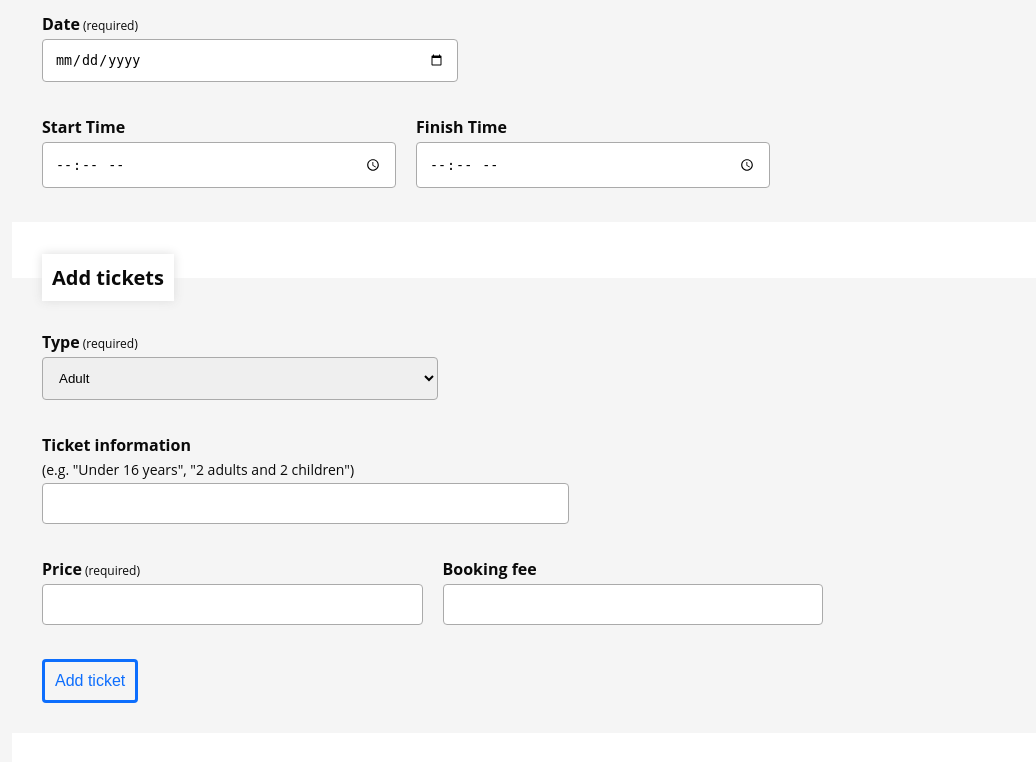
Test: AddEvent component › should list tickets as they are added
(page scrolled)
Step 1. Select "Child" in the dropdown labelled "Type (required)" → (240, 379), box x1=42 y1=357 x2=438 y2=400
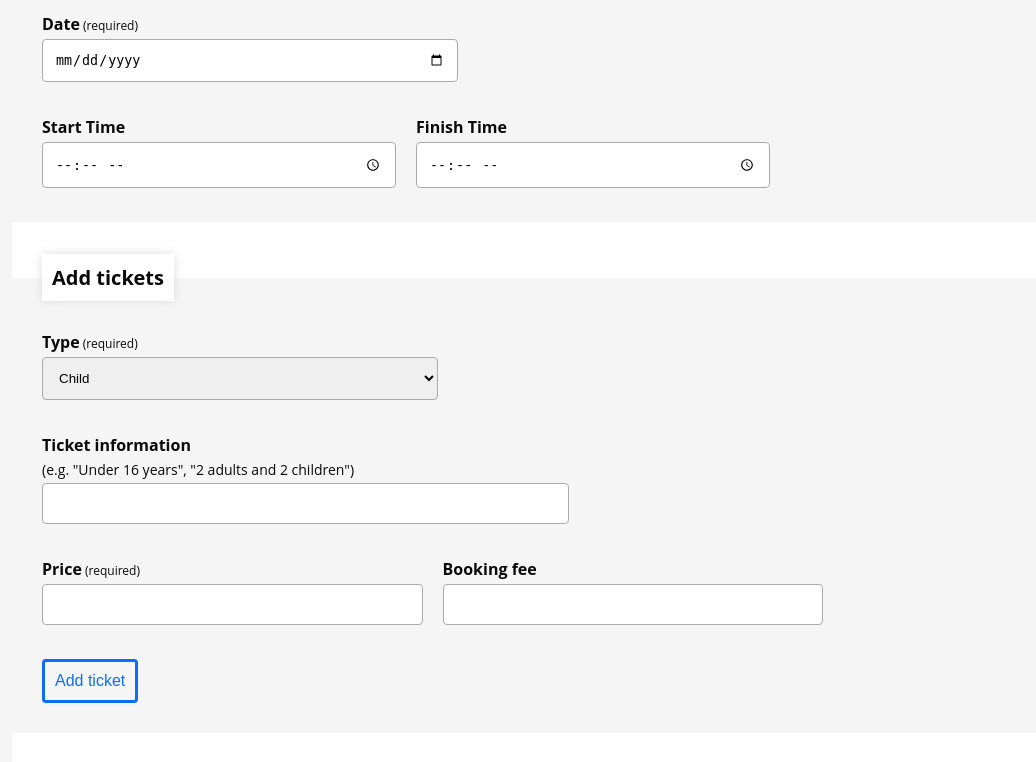
Step 2. Type "Test ticket information" into the field labelled "Ticket information" → (306, 504), box x1=42 y1=483 x2=569 y2=524
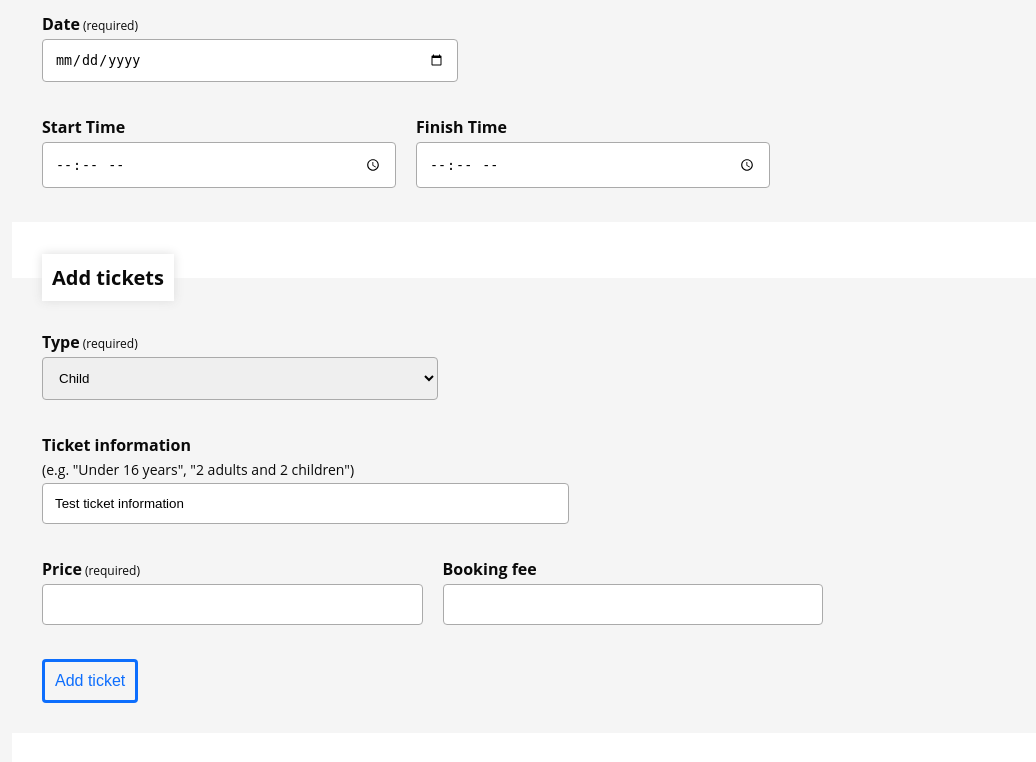
Step 3. Type "10.99" into the number field labelled "Price (required)" → (232, 605), box x1=42 y1=584 x2=422 y2=625
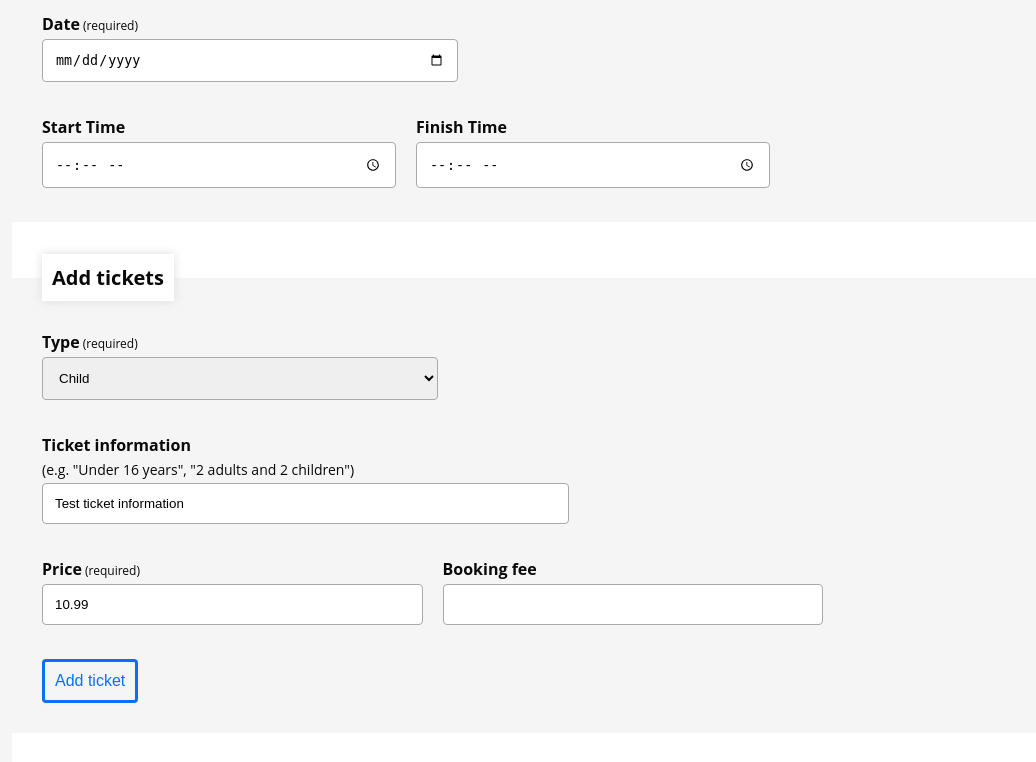
Step 4. Type "1.99" into the number field labelled "Booking fee" → (633, 605), box x1=442 y1=584 x2=823 y2=625
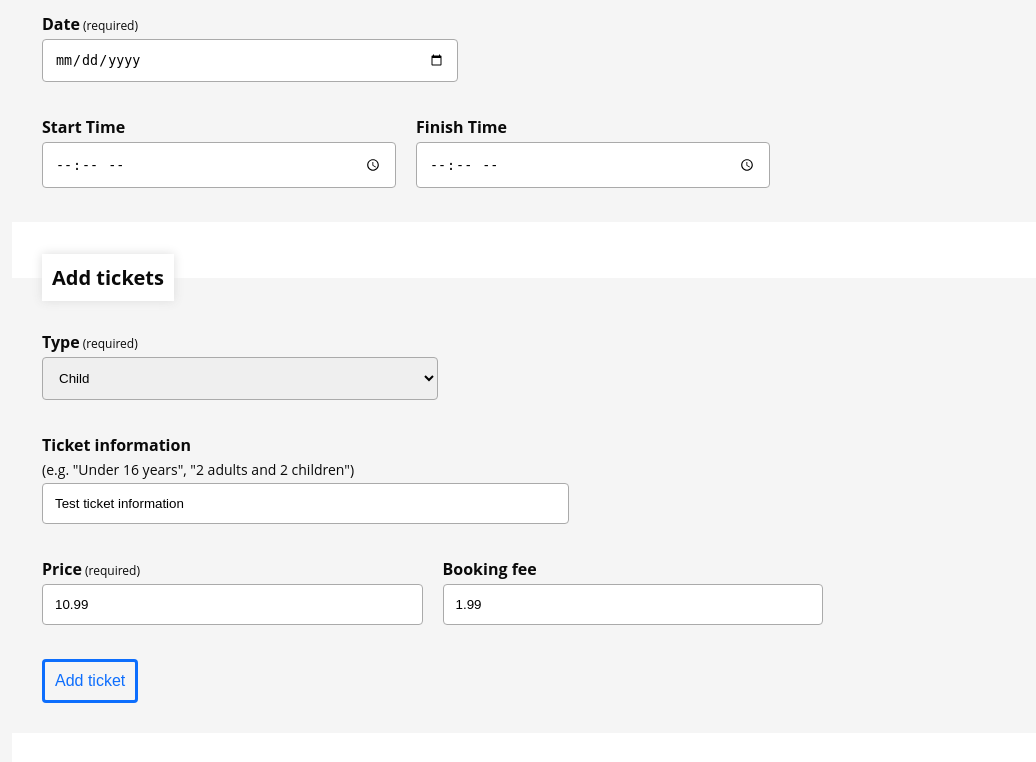
Step 5. Click the button "Add ticket" → (90, 681), box x1=42 y1=659 x2=138 y2=703
(page scrolled)
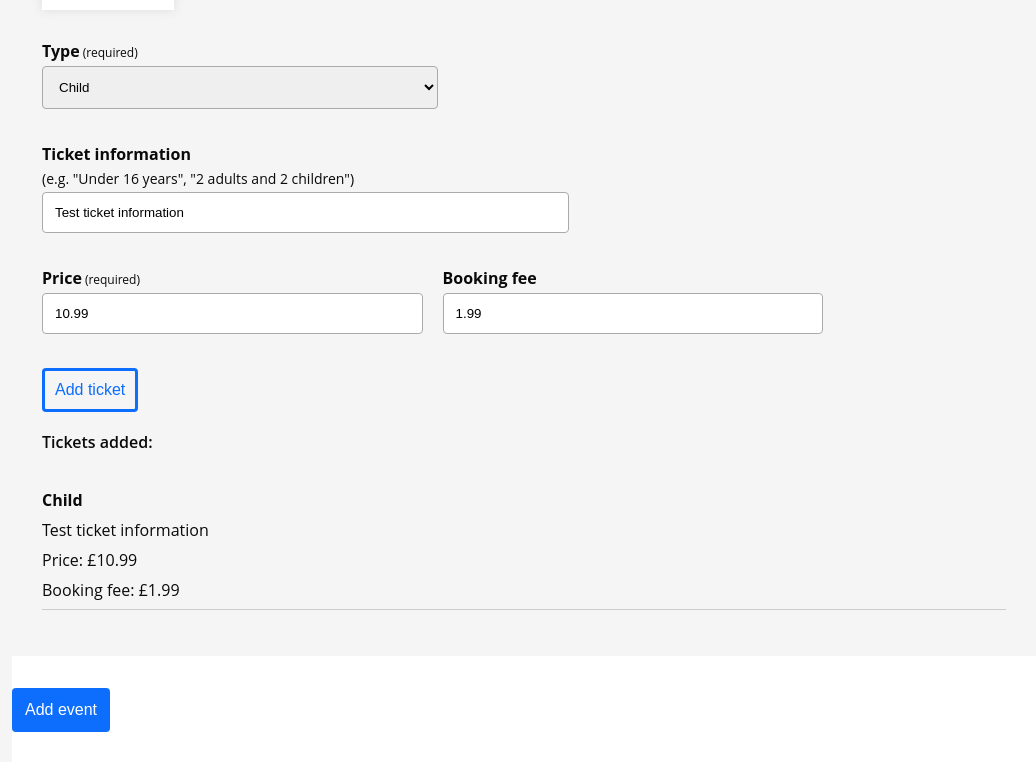
Check: the text "Tickets added:" is shown, box x1=42 y1=431 x2=152 y2=453
Check: the text "Child" is shown, box x1=42 y1=489 x2=83 y2=511
Check: the text "Test ticket information" is shown, box x1=42 y1=519 x2=209 y2=541
